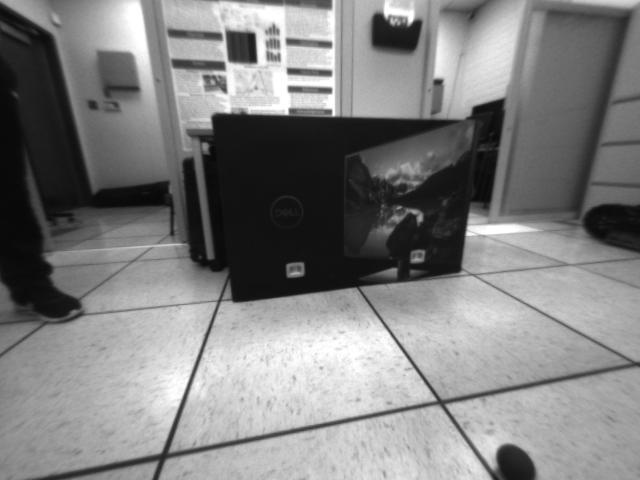dogtoy: (489, 433, 546, 480)
